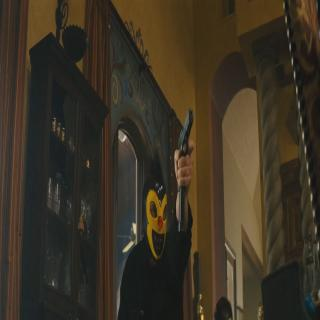gun: (174, 107, 195, 236)
